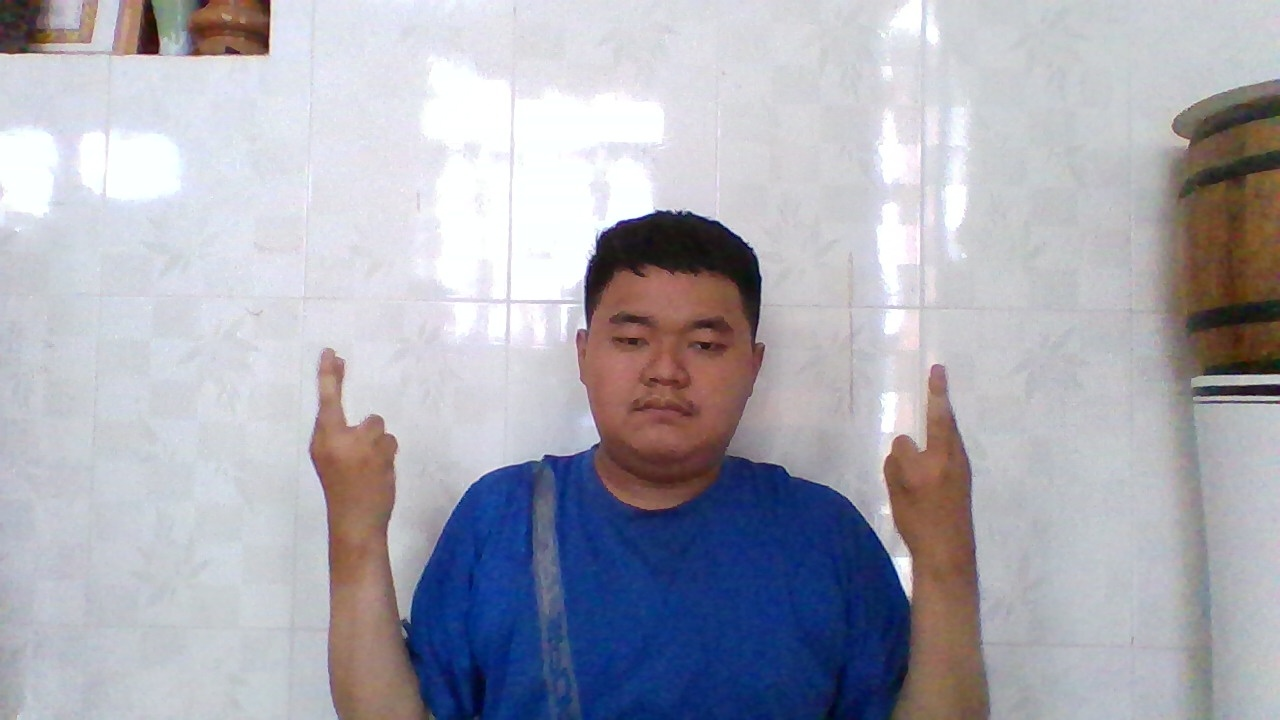R: (873, 352, 980, 567), (302, 339, 409, 540)
